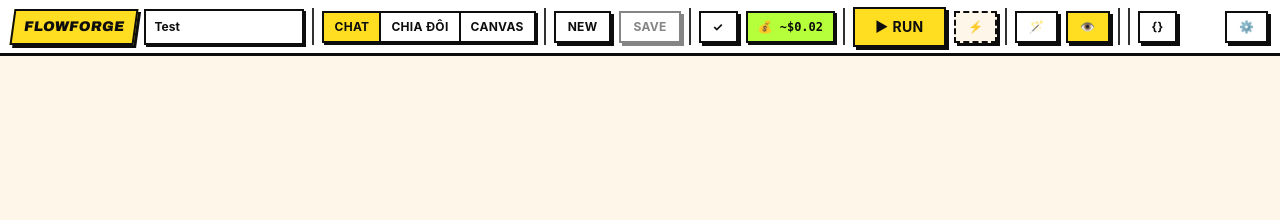
Toolbar — 💰 cost estimate › clicking the badge opens a popover with the per-node breakdown and the disclaimer
What coordinates should you click on to do the following:
click the button with test id "cost-estimate"
I would click on:
 (790, 26)
Its box is top-left (746, 10), bottom-right (835, 42).
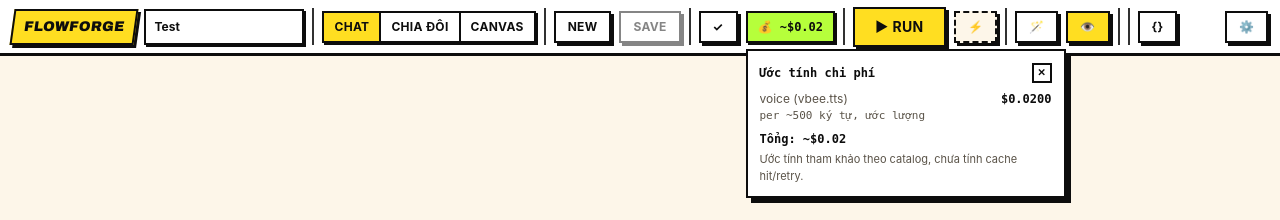
Result: the text "voice (vbee.tts)per ~500 ký tự, ước lượng" is shown at top-left (760, 90), bottom-right (925, 123)
Result: the text "per ~500 ký tự, ước lượng" is shown at top-left (760, 108), bottom-right (925, 122)
Result: the text "Ước tính tham khảo theo catalog, chưa tính cache hit/retry." is shown at top-left (760, 151), bottom-right (1052, 184)
